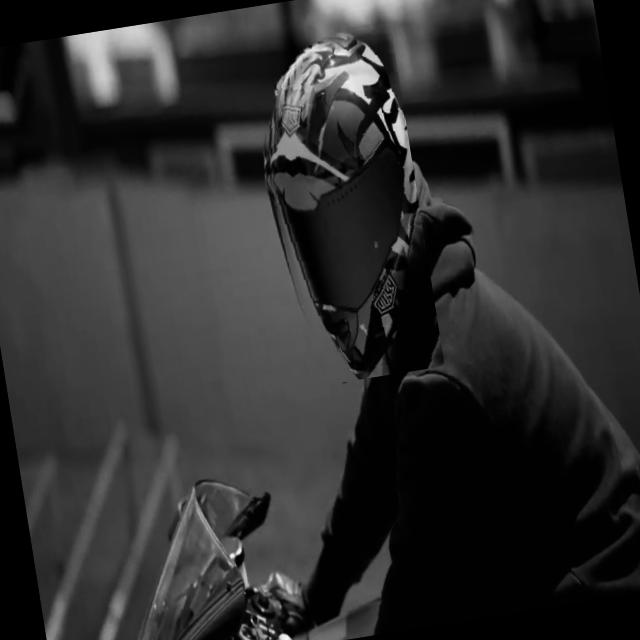Helmet: (242, 22, 445, 390)
